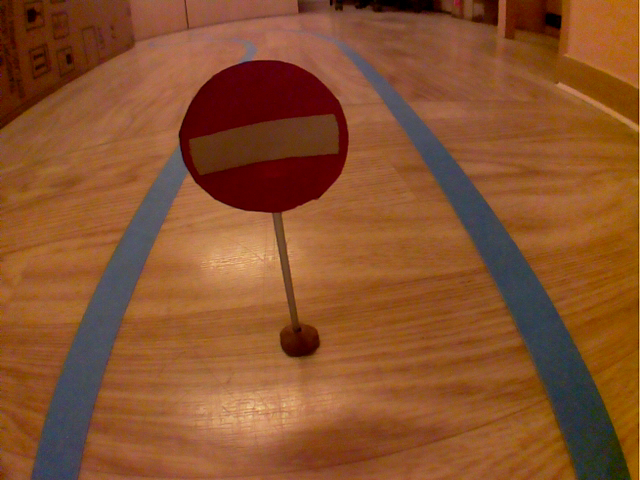Zakaz: (173, 52, 353, 221)
